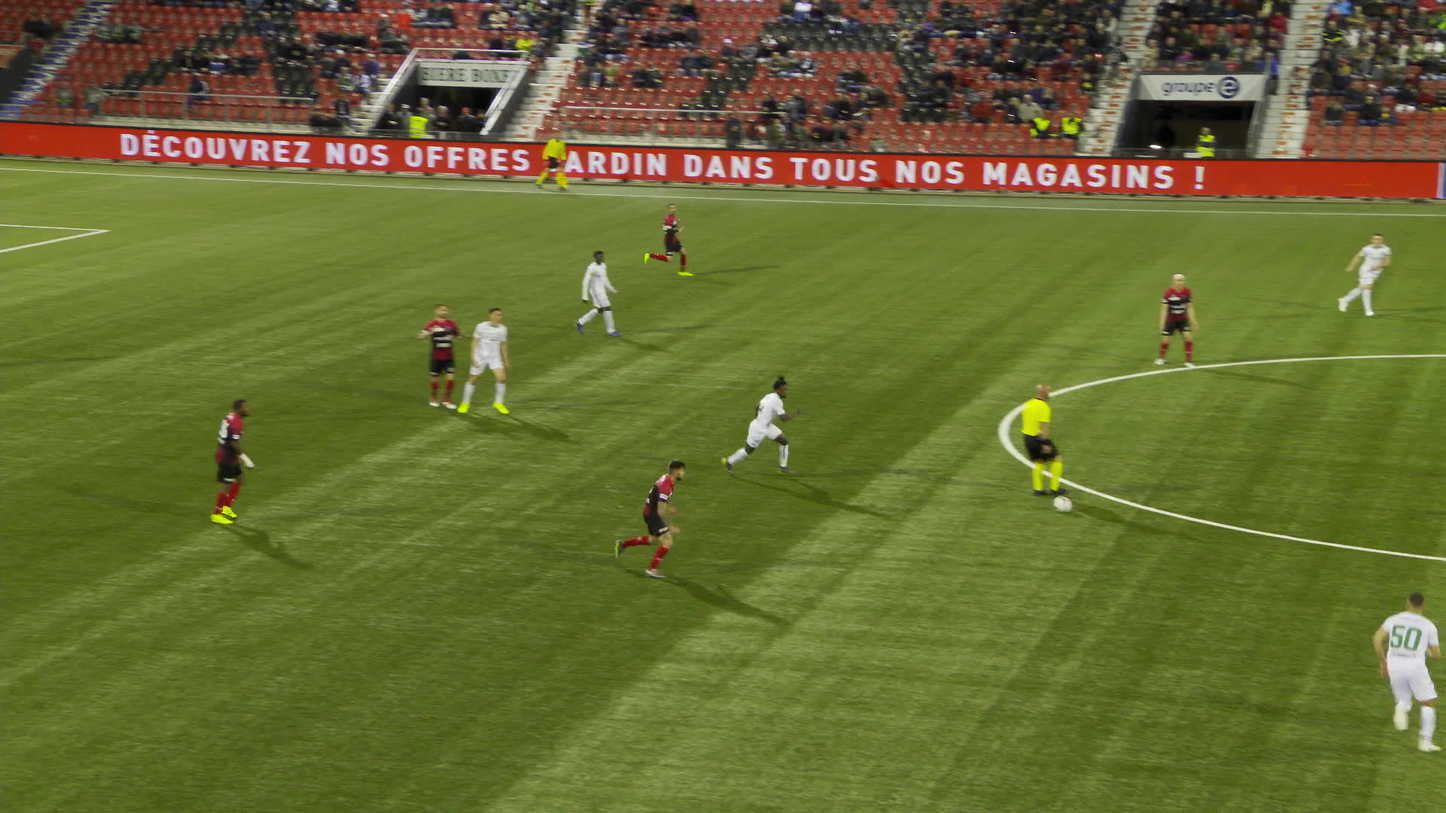ball: (1047, 495, 1063, 508)
player: (1378, 597, 1444, 754), (612, 458, 685, 577), (728, 376, 801, 476), (213, 400, 258, 525), (464, 307, 514, 414), (423, 304, 474, 407), (578, 251, 630, 336), (1345, 233, 1397, 316), (644, 203, 701, 278), (1161, 273, 1202, 370)
referee: (1026, 386, 1072, 498), (541, 129, 574, 192)
